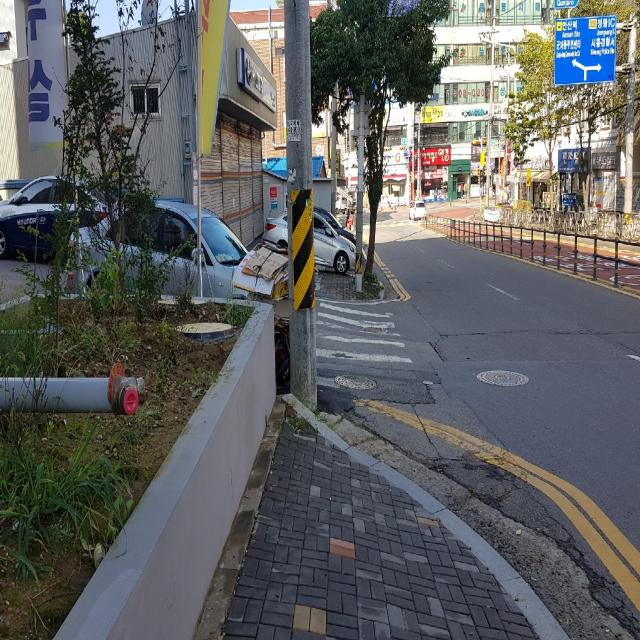횡단보도: (316, 302, 413, 388)
